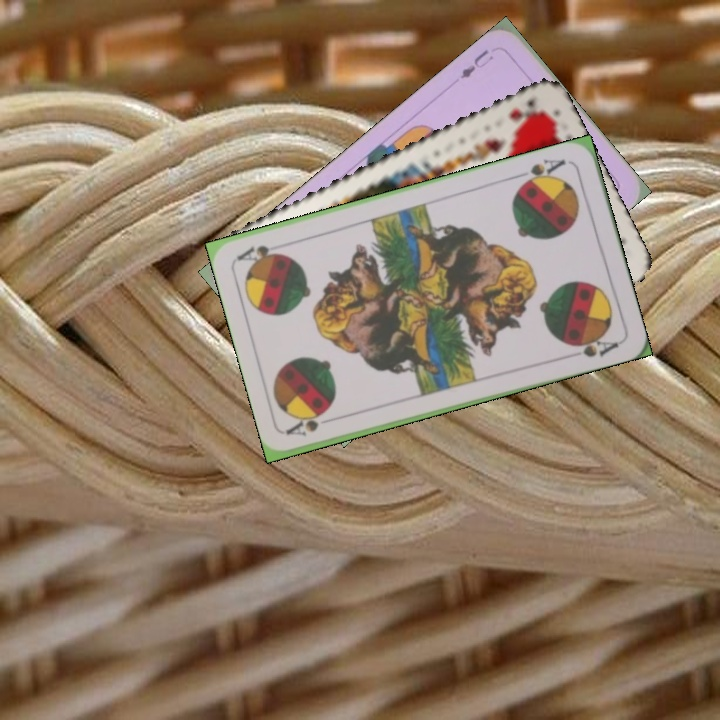EU: (455, 45, 496, 82)
HK: (505, 95, 546, 124)
SA: (513, 154, 568, 189), (283, 410, 328, 439)
